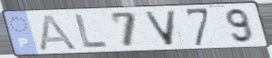7: (109, 10, 142, 49), (185, 7, 214, 48)
9: (224, 7, 257, 44)
A: (38, 13, 80, 51)
L: (73, 12, 109, 49)
V: (141, 10, 180, 47)
